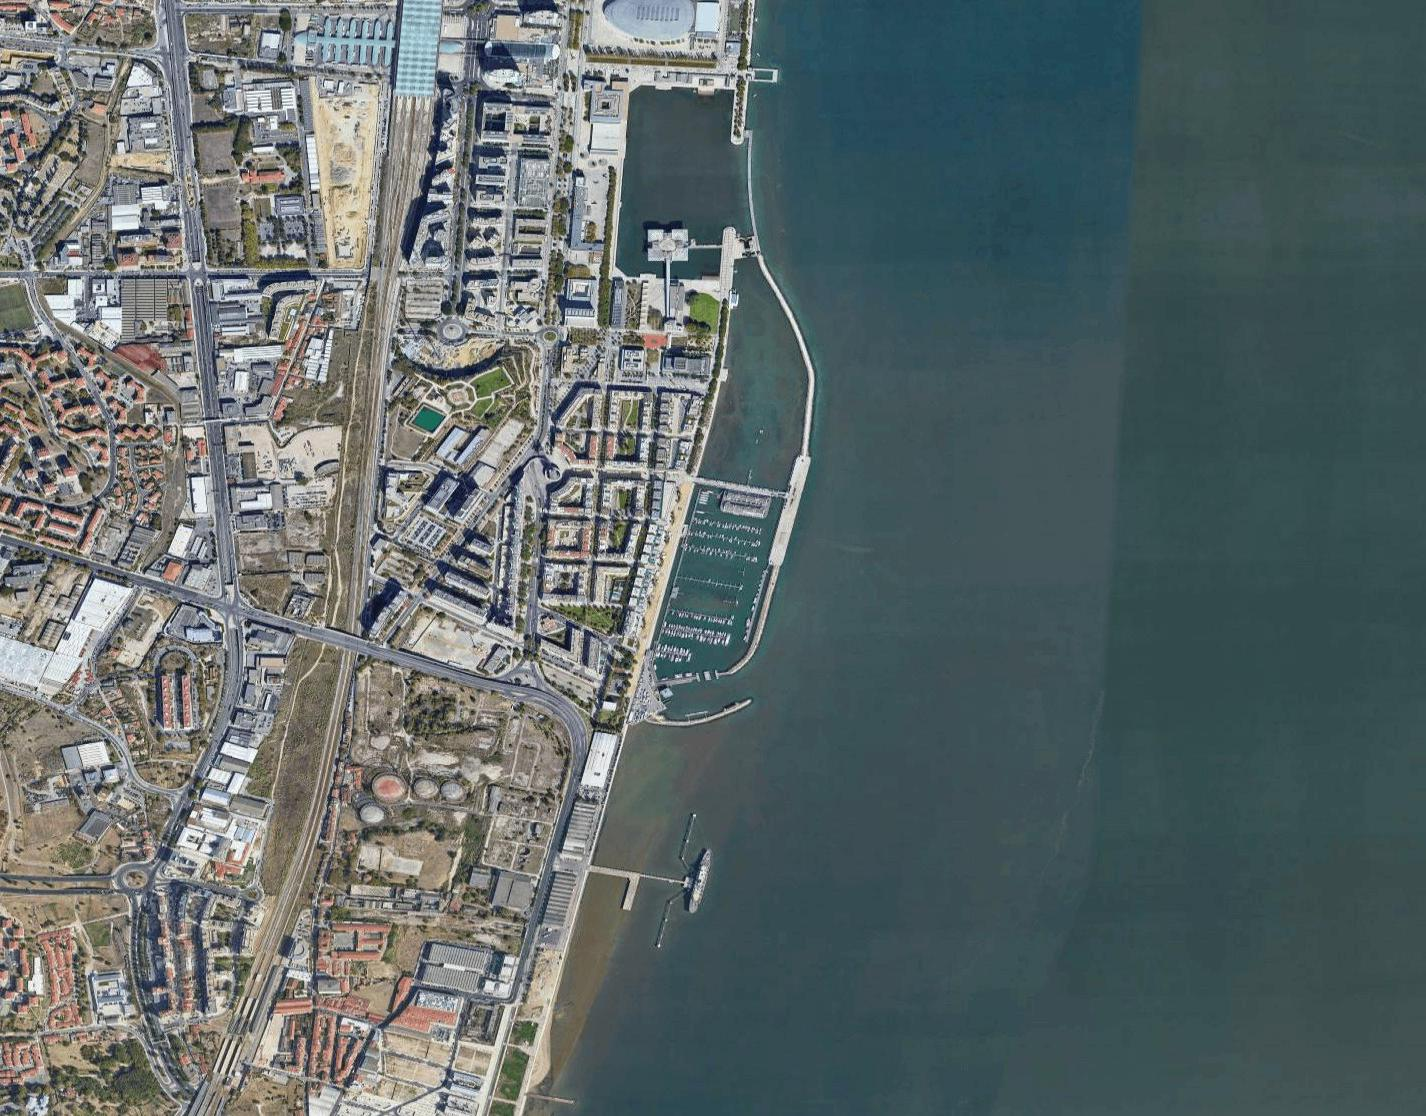harbor: (613, 196, 857, 790)
motorway: (267, 608, 436, 671), (438, 662, 580, 718), (138, 572, 265, 626), (201, 431, 238, 574), (172, 144, 210, 287), (185, 287, 222, 429), (157, 1, 194, 142)
